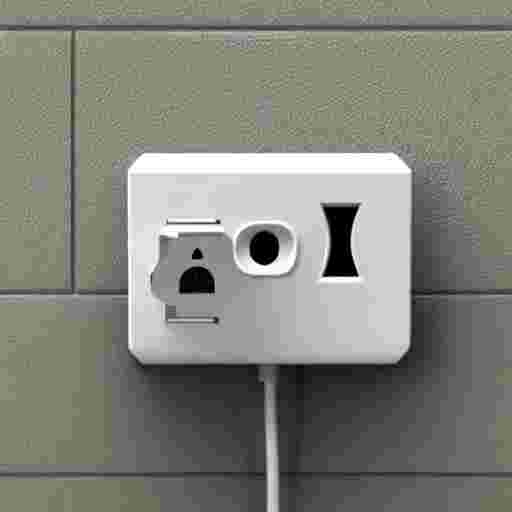power outlet: (128, 153, 411, 364)
